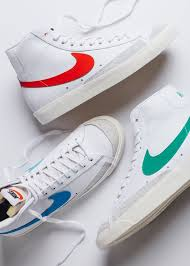nike: (134, 104, 190, 206), (1, 184, 85, 248), (12, 37, 105, 94)
